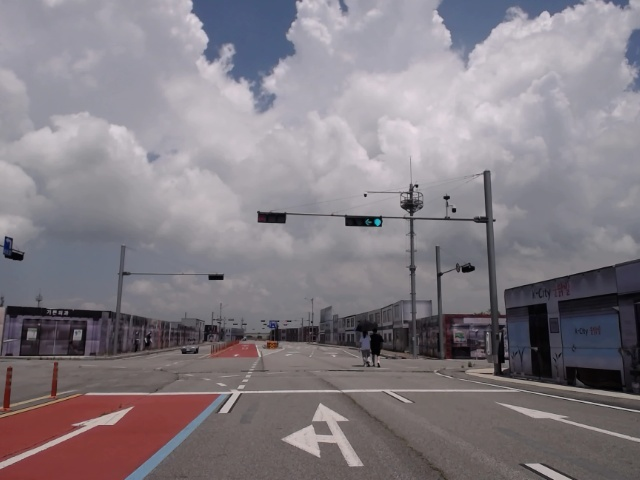all_green_4: (346, 216, 382, 228)
